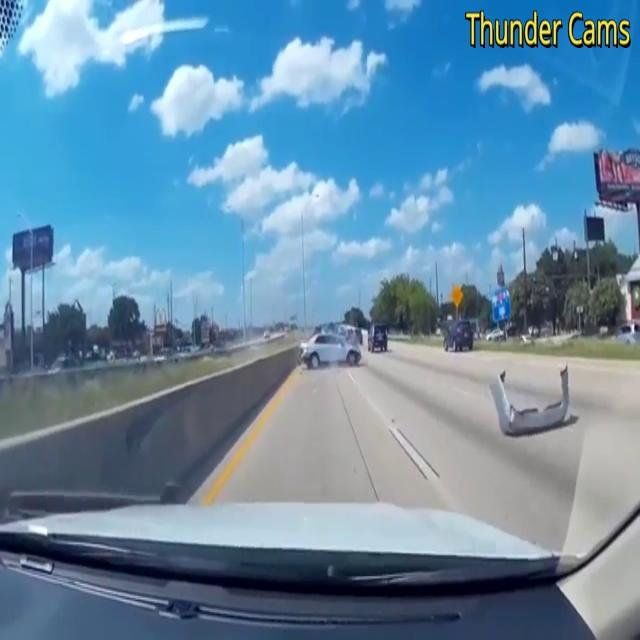accident: (294, 327, 364, 374)
